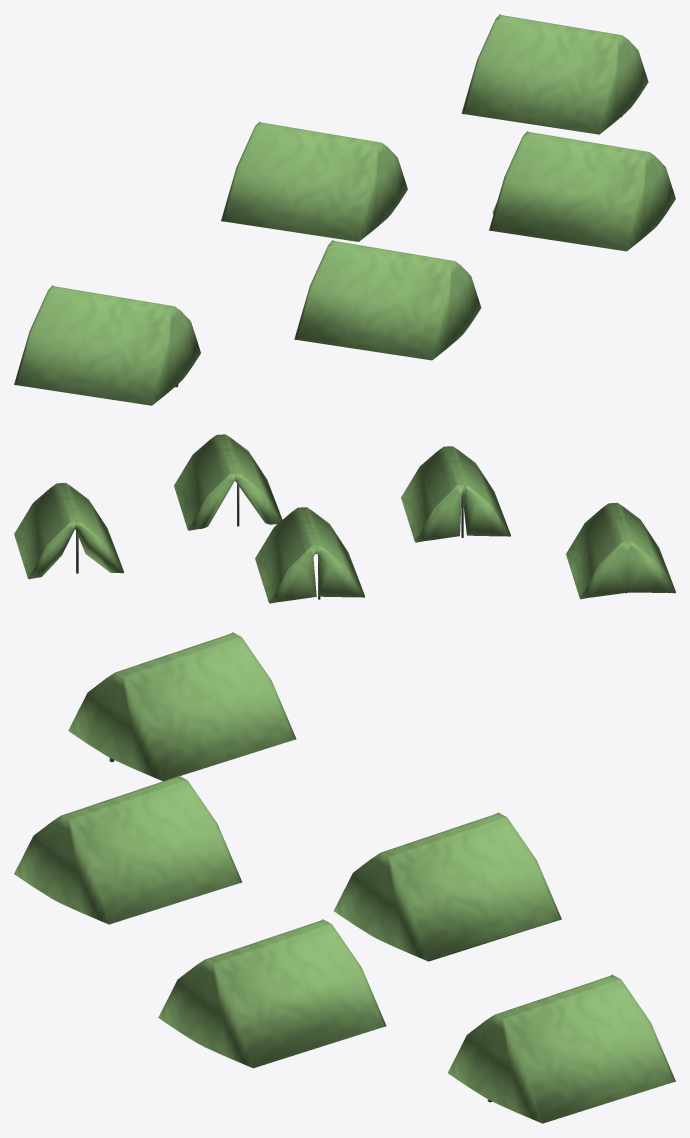
Rendered from Tents_Green.obj.
3 views of the same model, one above another, from view 1: azimuth 30°, elevation 25°; view 2: azimuth 150°, elevation 25°; view 3: azimuth 270°, elevation 25° (orthographic). The views are drawn at different scales.
Parts seen in each view (by area): view 1: Tent_Base.004_Material, Tent_Base.001_Material, Tent_Base.003_Material, Tent_Base_Material, Tent_Base.002_Material; view 2: Tent_Base.004_Material, Tent_Base.002_Material, Tent_Base.003_Material, Tent_Base_Material, Tent_Base.001_Material; view 3: Tent_Base.001_Material, Tent_Base_Material, Tent_Base.003_Material, Tent_Base.002_Material, Tent_Base.004_Material.
Part boxes in pixels (x1,y1,x2,y2): Tent_Base.004_Material: (14,285,200,405); Tent_Base.001_Material: (489,131,675,251); Tent_Base.003_Material: (294,240,481,360); Tent_Base_Material: (461,14,648,134); Tent_Base.002_Material: (221,121,407,241); Tent_Base.004_Material: (566,502,675,599); Tent_Base.002_Material: (255,507,364,603); Tent_Base.003_Material: (401,446,510,542); Tent_Base_Material: (14,482,123,579); Tent_Base.001_Material: (174,434,282,530); Tent_Base.001_Material: (158,919,386,1068); Tent_Base_Material: (448,974,675,1123); Tent_Base.003_Material: (14,775,242,924); Tent_Base.002_Material: (334,812,561,961); Tent_Base.004_Material: (68,632,296,781).
Size of the model in its own units: 13.56 by 1.26 by 8.67.
